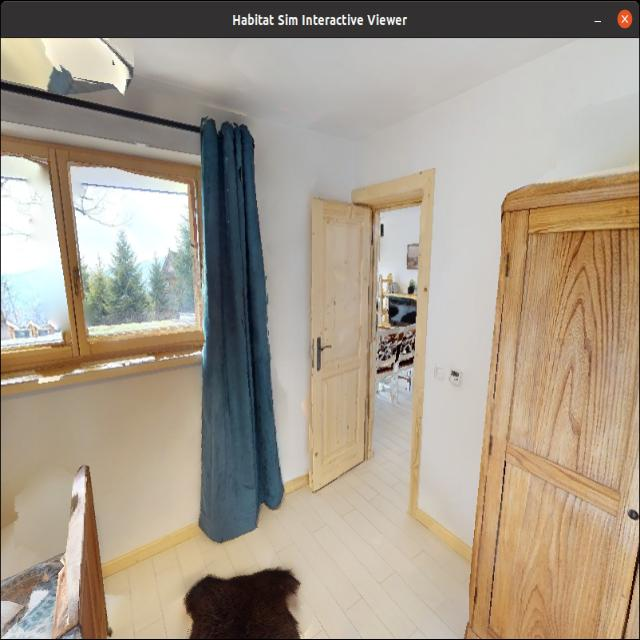door: (309, 201, 370, 485)
door-frame: (366, 173, 429, 518)
